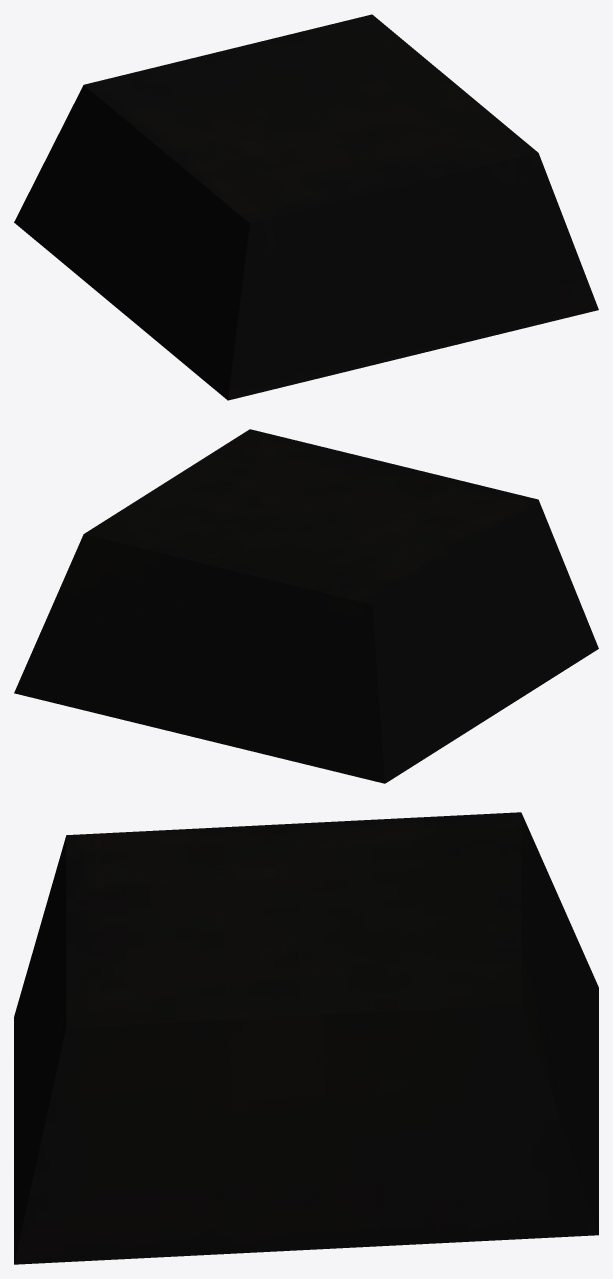
Rendered from link_102__key-108.glb.
3 renders of one model, top to bottom at view 1: azimuth 30°, elevation 25°; view 2: azimuth 150°, elevation 25°; view 3: azimuth 270°, elevation 25°, orthographic. The views are drawn at different scales.
Parts seen in each view (by area): view 1: world; view 2: world; view 3: world.
Boxes of the visible parts, left/top/right/bottom form: world: left=14, top=14, right=598, bottom=400; world: left=14, top=429, right=598, bottom=783; world: left=14, top=812, right=598, bottom=1264.
Bounding box in the file's own units: 0.0719 × 0.0315 × 0.0718.
Materials: 1 (1 with a texture image).
